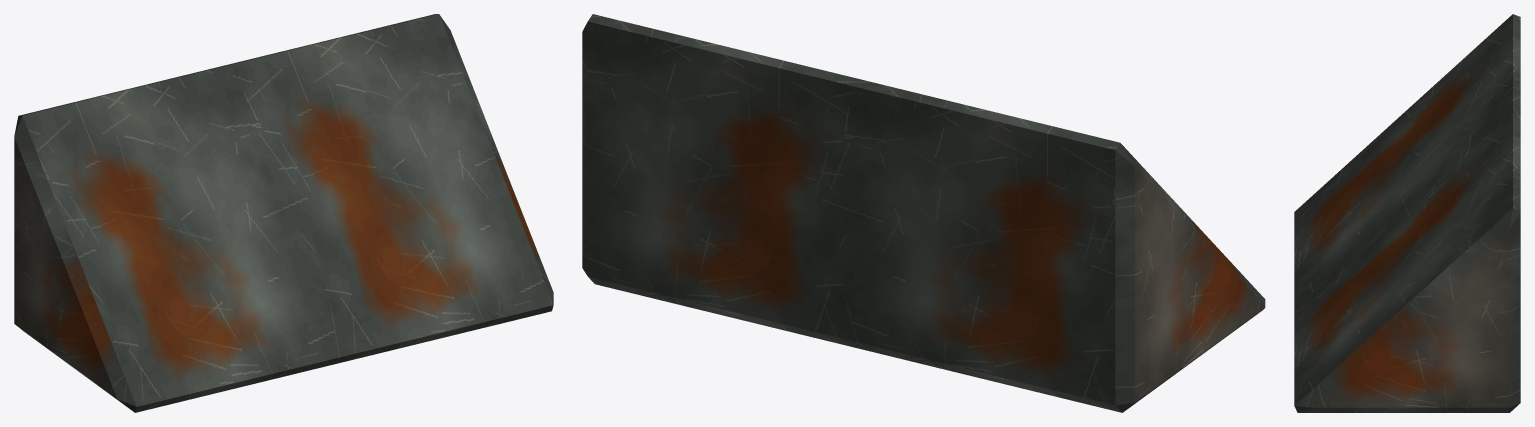
Rendered from R4B_WideWedge_LOD1.glb.
The picture shows the model from 3 angles, left to right: view 1: azimuth 30°, elevation 25°; view 2: azimuth 150°, elevation 25°; view 3: azimuth 270°, elevation 25°; orthographic projection. The views are drawn at different scales.
Parts seen in each view (by area): view 1: R4B_WideWedge_LOD1; view 2: R4B_WideWedge_LOD1; view 3: R4B_WideWedge_LOD1.
Part boxes in pixels (bbox=[...]): R4B_WideWedge_LOD1: bbox=[14, 14, 553, 412]; R4B_WideWedge_LOD1: bbox=[582, 14, 1265, 412]; R4B_WideWedge_LOD1: bbox=[1294, 14, 1520, 412].
Size of the model in its own units: 1.07 by 0.503 by 0.503.
2 materials, 2 textured.
